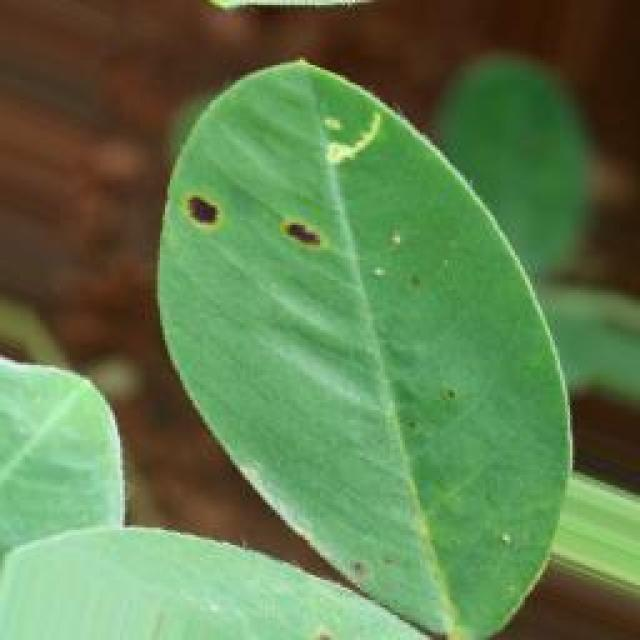Sigatoka: (170, 158, 352, 294)
